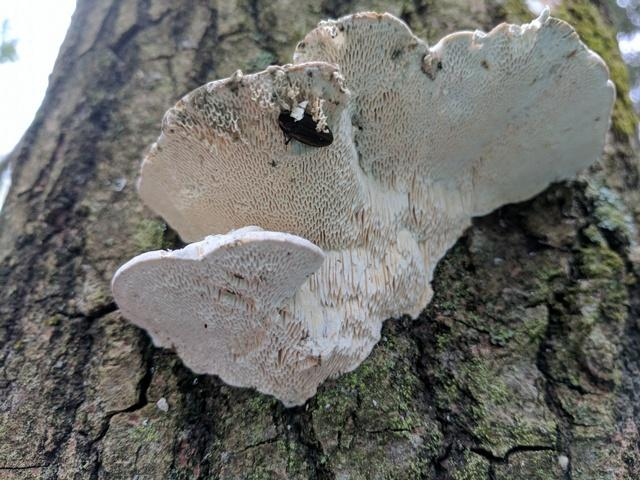poisonous_mushroom: (109, 6, 616, 409)
